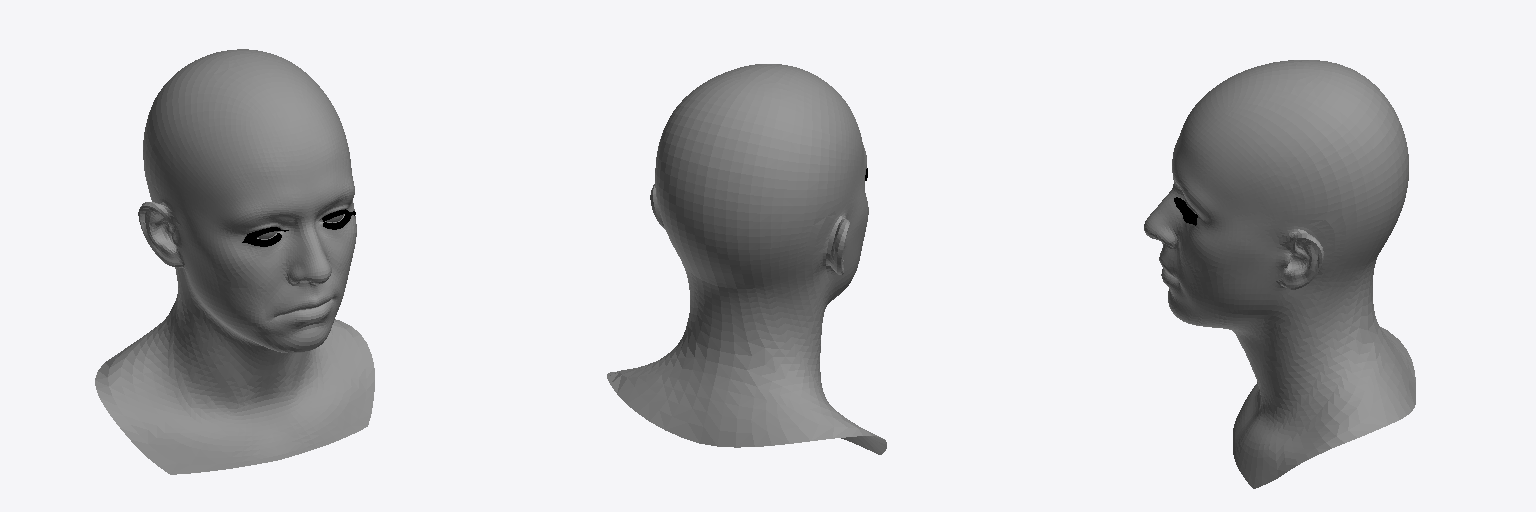
Rendered from mouthFrown_R.obj.
3 views of the same model, side by side, from view 1: azimuth 30°, elevation 25°; view 2: azimuth 150°, elevation 25°; view 3: azimuth 270°, elevation 25° (orthographic).
Size of the model in its own units: 24.83 by 33.81 by 22.31.